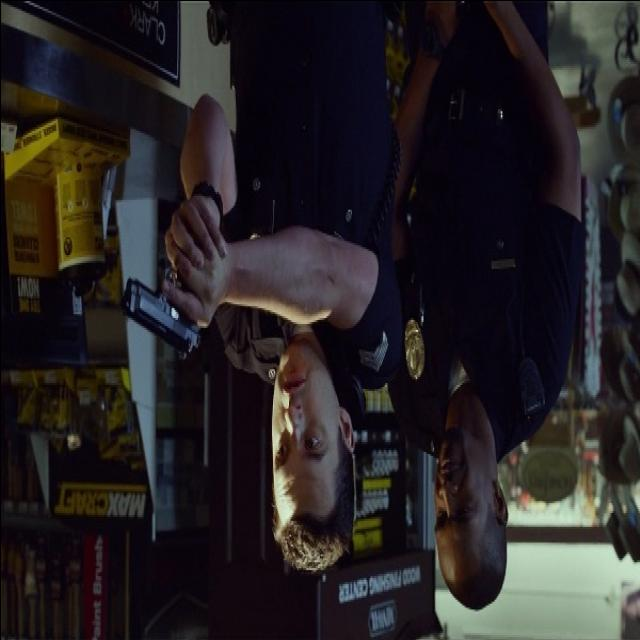weapons: (118, 178, 212, 374)
